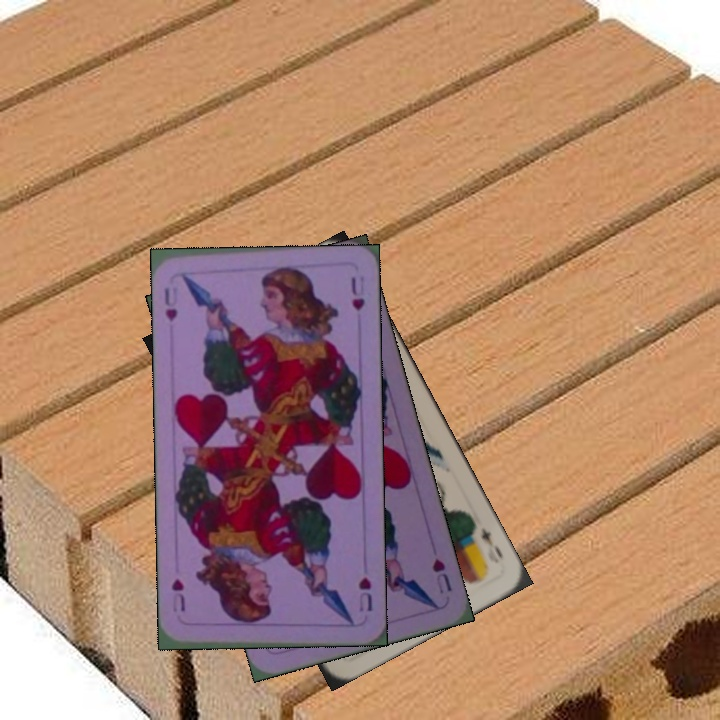EO: (467, 518, 506, 561)
HU: (427, 554, 455, 597), (160, 282, 184, 324), (354, 573, 375, 614)
